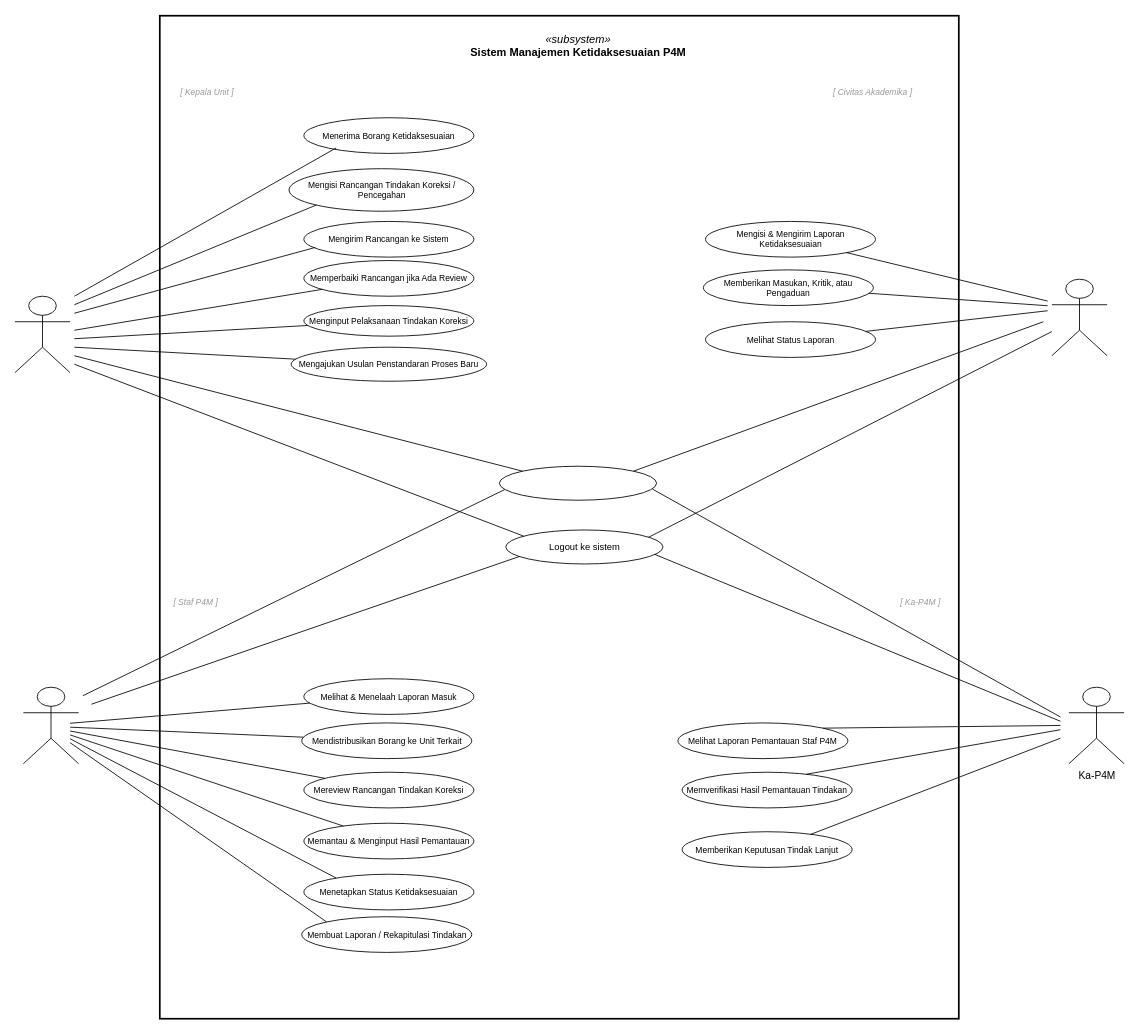
This 1139x1034 diagram has some shape labels left out. Each missing label, with the centre of its shape:
"Civitas Akademik" goes at (x=1079, y=317).
"Kepala Unit" goes at (x=42, y=334).
"Login ke Sistem" goes at (x=578, y=482).
"Staf 4PM" goes at (x=51, y=725).
